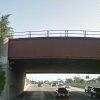Bridge: (10, 22, 95, 82)
